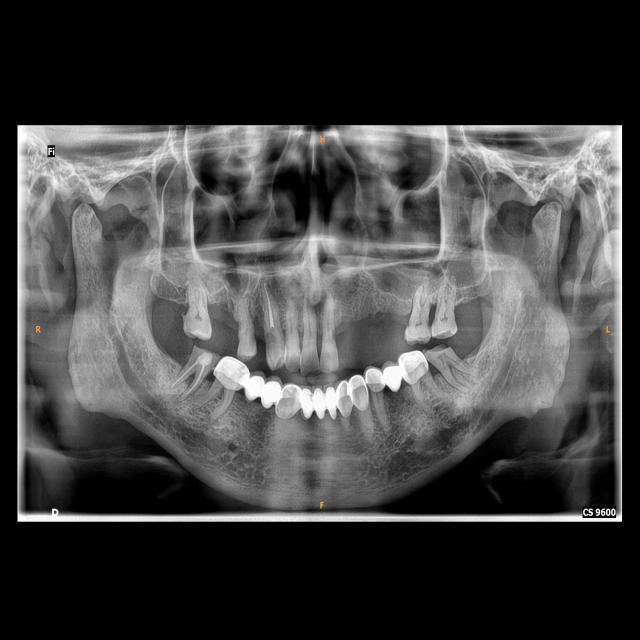dolgu: (199, 347, 212, 367)
kanal-tedavisi: (172, 359, 210, 402), (262, 281, 277, 333)
kaplama: (216, 356, 247, 393), (398, 348, 430, 383), (349, 374, 370, 410), (336, 381, 354, 416), (365, 363, 383, 392)
kirik: (424, 336, 456, 363)
kopru: (242, 368, 339, 423), (380, 354, 408, 404)
